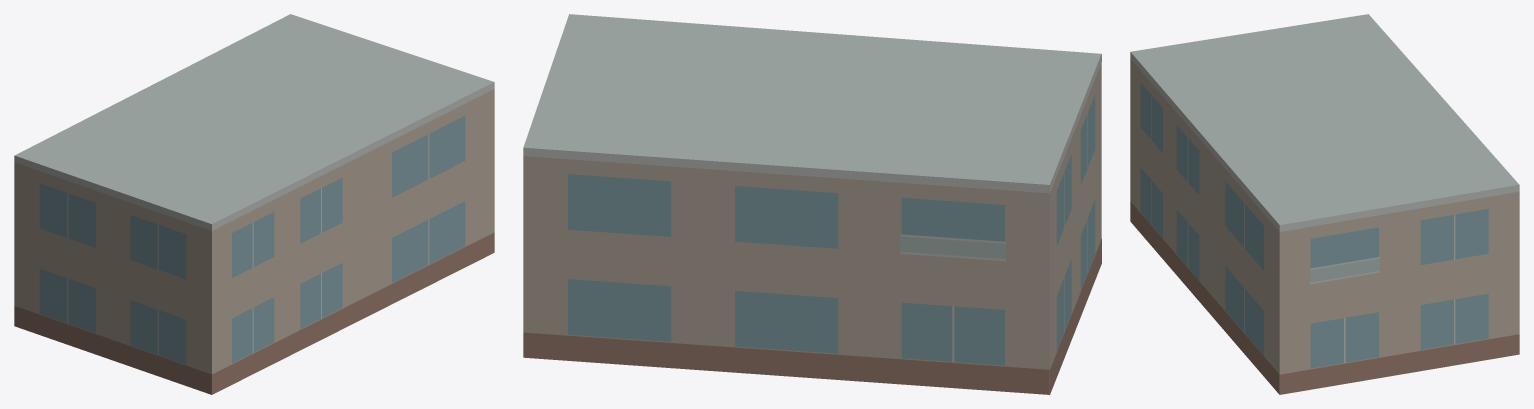
Rendered from survey-upis-32852140.glb.
The picture shows the model from 3 angles, left to right: view 1: azimuth 30°, elevation 25°; view 2: azimuth 150°, elevation 25°; view 3: azimuth 270°, elevation 25°; orthographic projection. The views are drawn at different scales.
Parts seen in each view (by area): view 1: survey-upis-32852140.tmp; view 2: survey-upis-32852140.tmp; view 3: survey-upis-32852140.tmp.
Part boxes in pixels (<box>): survey-upis-32852140.tmp: <box>14,14,494,394</box>; survey-upis-32852140.tmp: <box>523,14,1101,394</box>; survey-upis-32852140.tmp: <box>1130,14,1519,394</box>.
Size of the model in its own units: 16.3 by 6.1 by 12.69.
